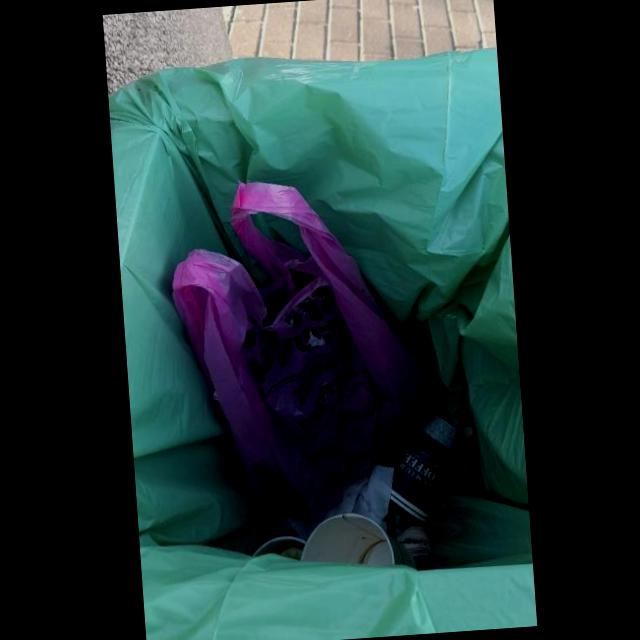tui_ni_long: (170, 180, 440, 523)
